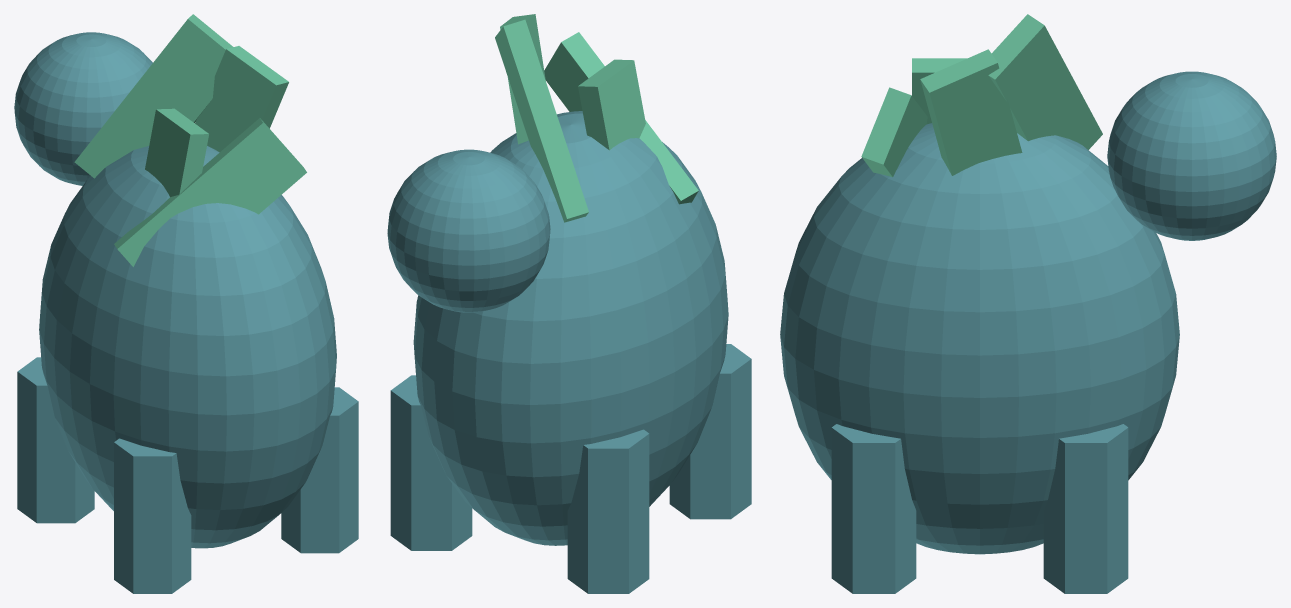
File: SM_KelpBack.fbx
The picture shows the model from 3 angles, left to right: view 1: azimuth 30°, elevation 25°; view 2: azimuth 150°, elevation 25°; view 3: azimuth 270°, elevation 25°; orthographic projection. The views are drawn at different scales.
Visible parts, largest first — view 1: SM_KelpBack; view 2: SM_KelpBack; view 3: SM_KelpBack.
Part boxes in pixels (box(x1,y1,x2,y2)): SM_KelpBack: box(14, 14, 358, 593); SM_KelpBack: box(387, 14, 751, 593); SM_KelpBack: box(780, 14, 1276, 593).
Size of the model in its own units: 0.99 by 1.98 by 1.64.
